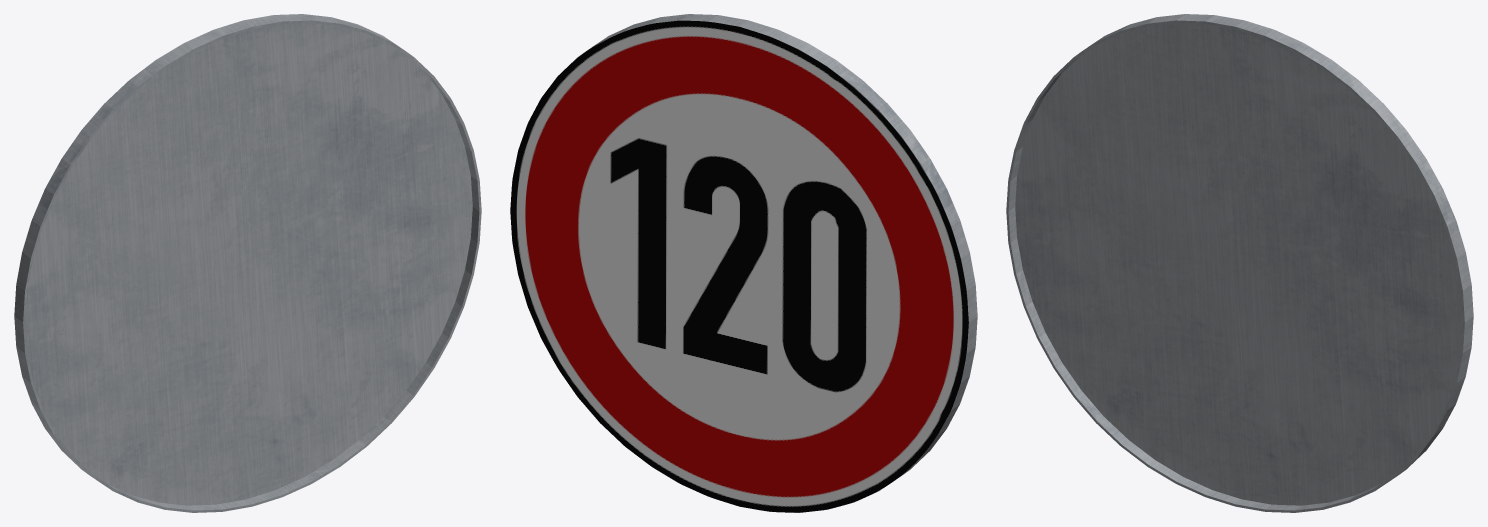
File: Speed_limit_120kmh.fbx
The picture shows the model from 3 angles, left to right: view 1: azimuth 30°, elevation 25°; view 2: azimuth 150°, elevation 25°; view 3: azimuth 330°, elevation 25°; orthographic projection.
Visible parts, largest first — view 1: Speed limit 120kmh; view 2: Speed limit 120kmh; view 3: Speed limit 120kmh.
Boxes of the visible parts, bbox=[...] form: Speed limit 120kmh: bbox=[14, 14, 481, 512]; Speed limit 120kmh: bbox=[510, 14, 977, 512]; Speed limit 120kmh: bbox=[1006, 14, 1473, 512].
Bounding box in the file's own units: 0.02 × 0.6 × 0.6.
